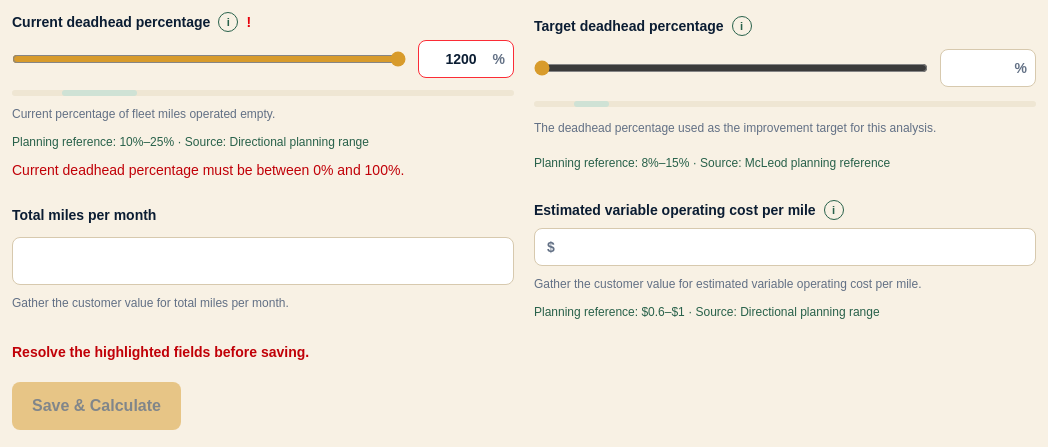
AssessmentForm input stability › keeps empty percentage text from sending NaN to the range input
The width and height of the screenshot is (1048, 447).
Clear the field labelled "Current deadhead percentage" at (452, 59), box [419,41,484,77]
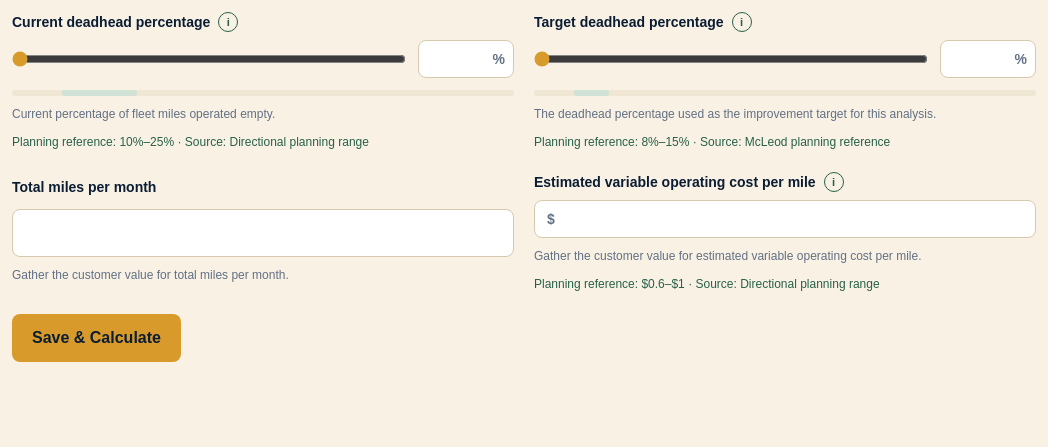
Expected: the slider named "Current deadhead percentage slider" holds "0", [12,55,406,63]
